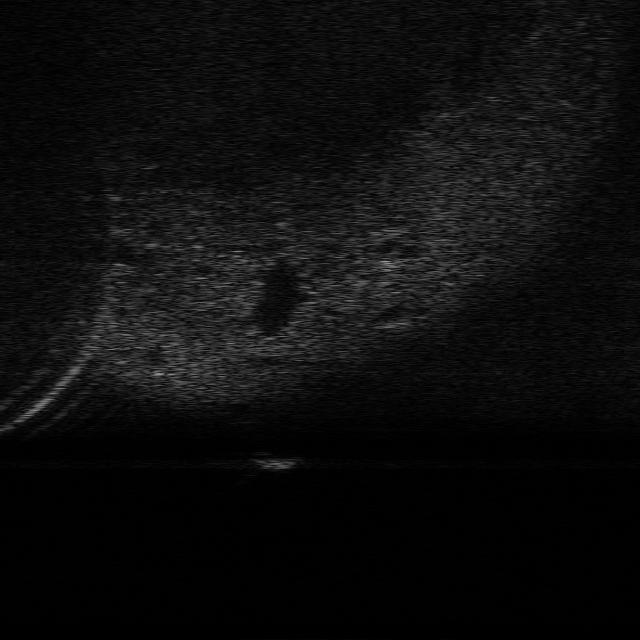cube: (246, 445, 304, 473)
